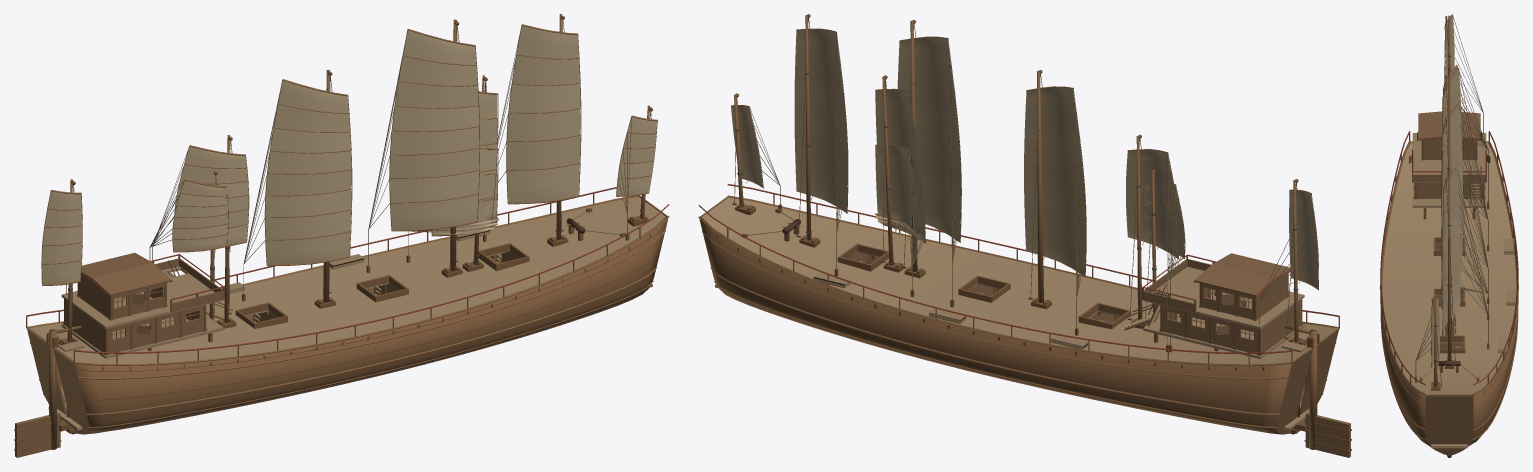
File: machuan-full.glb
3 renders of one model, left to right at view 1: azimuth 30°, elevation 25°; view 2: azimuth 150°, elevation 25°; view 3: azimuth 270°, elevation 25°, orthographic. The views are drawn at different scales.
Visible parts, largest first — view 1: Starboard planked shell_WEB, Battened sail panels.004_WEB, Battened sail panels.003_WEB, Battened sail panels.005_WEB, Battened sail panels.002_WEB, Battened sail panels_WEB, Battened sail panels.001_WEB, Battened sail panels.009_WEB, Cambered upper shelter roof_WEB, Battened sail panels.006_WEB, Walkable roof_WEB, Main deck plank.029_WEB (+24 smaller); view 2: Port planked shell_WEB, Battened sail panels.003_WEB, Battened sail panels.004_WEB, Battened sail panels.005_WEB, Battened sail panels.002_WEB, Battened sail panels.007_WEB, Battened sail panels.006_WEB, Cambered upper shelter roof_WEB, Battened sail panels_WEB, Walkable roof_WEB, Battened sail panels.009_WEB, Main deck plank.029_WEB (+31 smaller); view 3: Battened sail panels.005_WEB, Starboard planked shell_WEB, Port planked shell_WEB, Battened sail panels.004_WEB, Bow closure.002_WEB, Bow closure_WEB, Walkable roof_WEB, Cambered upper shelter roof_WEB, Main deck plank.020_WEB, Main deck plank.019_WEB, Main deck plank.018_WEB, Main deck plank.029_WEB (+53 smaller).
Part boxes in pixels (box(x1,y1,x2,y2)): Starboard planked shell_WEB: box(74, 216, 668, 434); Battened sail panels.004_WEB: box(389, 30, 479, 229); Battened sail panels.003_WEB: box(264, 80, 351, 264); Battened sail panels.005_WEB: box(506, 25, 580, 202); Battened sail panels.002_WEB: box(174, 146, 248, 244); Battened sail panels_WEB: box(41, 191, 82, 284); Battened sail panels.001_WEB: box(172, 181, 228, 250); Battened sail panels.009_WEB: box(616, 117, 656, 195); Cambered upper shelter roof_WEB: box(81, 252, 171, 296); Battened sail panels.006_WEB: box(431, 93, 497, 233); Walkable roof_WEB: box(61, 270, 206, 328); Main deck plank.029_WEB: box(370, 252, 466, 313); Port planked shell_WEB: box(699, 217, 1291, 434); Battened sail panels.003_WEB: box(1024, 87, 1086, 275); Battened sail panels.004_WEB: box(897, 38, 961, 241); Battened sail panels.005_WEB: box(794, 29, 847, 212); Battened sail panels.002_WEB: box(1126, 150, 1179, 257); Battened sail panels.007_WEB: box(875, 145, 921, 240); Battened sail panels.006_WEB: box(875, 90, 925, 242); Cambered upper shelter roof_WEB: box(1194, 253, 1290, 296); Battened sail panels_WEB: box(1289, 191, 1318, 288); Walkable roof_WEB: box(1159, 270, 1304, 329); Battened sail panels.009_WEB: box(731, 106, 763, 187); Main deck plank.029_WEB: box(901, 252, 996, 313); Battened sail panels.005_WEB: box(1442, 168, 1460, 334); Starboard planked shell_WEB: box(1381, 142, 1433, 448); Port planked shell_WEB: box(1468, 142, 1517, 446); Battened sail panels.004_WEB: box(1441, 103, 1463, 293); Bow closure.002_WEB: box(1425, 394, 1449, 455); Bow closure_WEB: box(1449, 394, 1473, 455); Walkable roof_WEB: box(1412, 133, 1486, 174); Cambered upper shelter roof_WEB: box(1418, 111, 1480, 138); Main deck plank.020_WEB: box(1382, 279, 1516, 287); Main deck plank.019_WEB: box(1382, 271, 1516, 279); Main deck plank.018_WEB: box(1383, 263, 1515, 271); Main deck plank.029_WEB: box(1384, 310, 1514, 318).
Size of the model in its own units: 51.86 by 25.57 by 11.65.
Materials: 23 (10 with a texture image).
